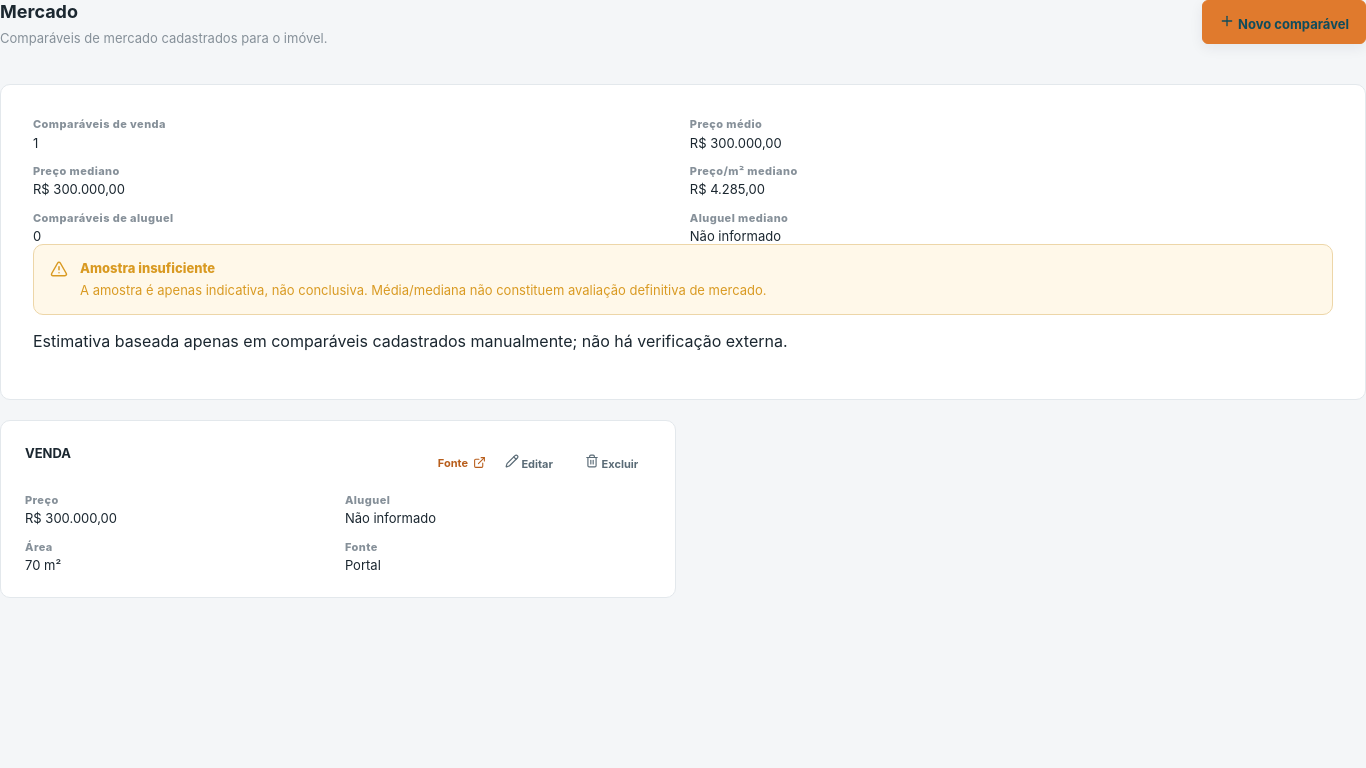
MarketSection › edita um comparável (recalcula mercado)
Expected: the text "VENDA" is shown, [25,445,71,461]
Click the button "Editar": (529,463) [492,445,566,481]
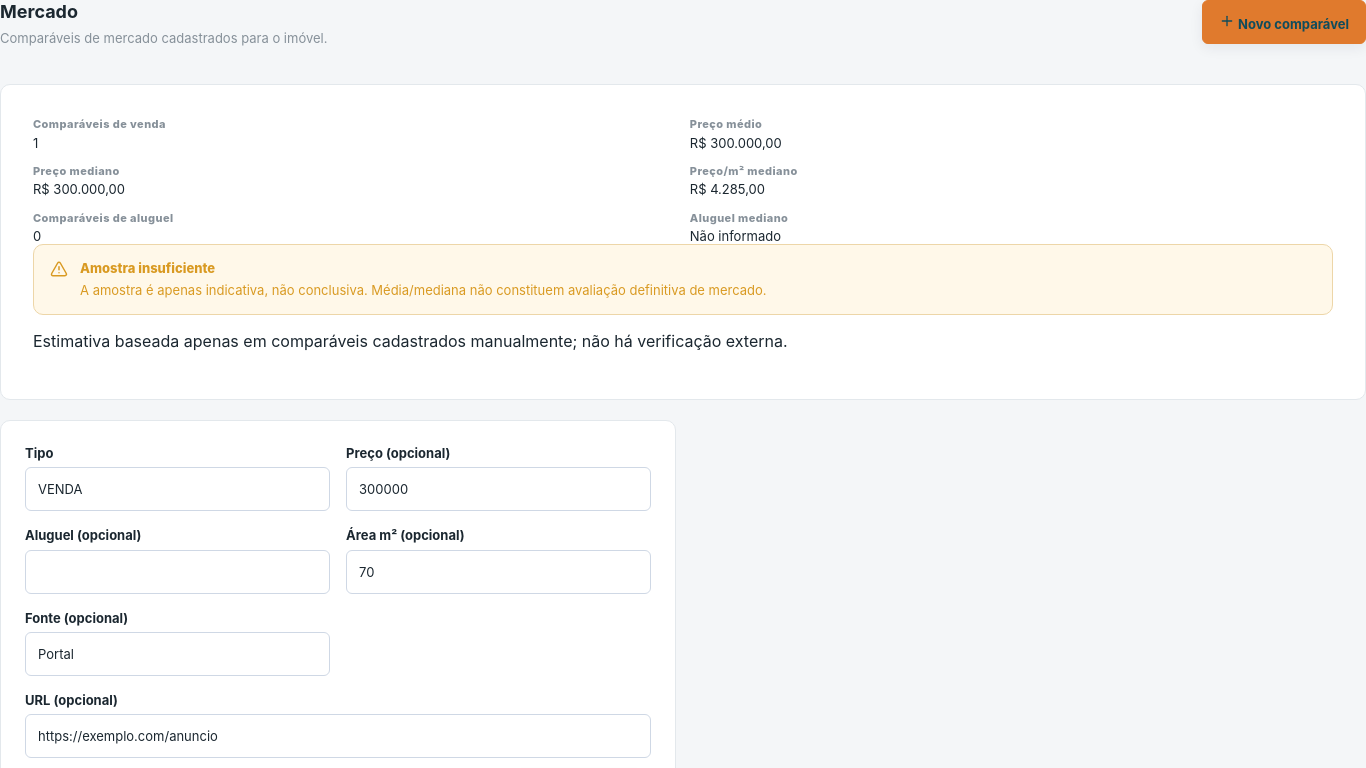
Replace the text in the number field labelled "Preço (opcional)" with "350000": (499,489) [346,467,651,511]
(page scrolled)
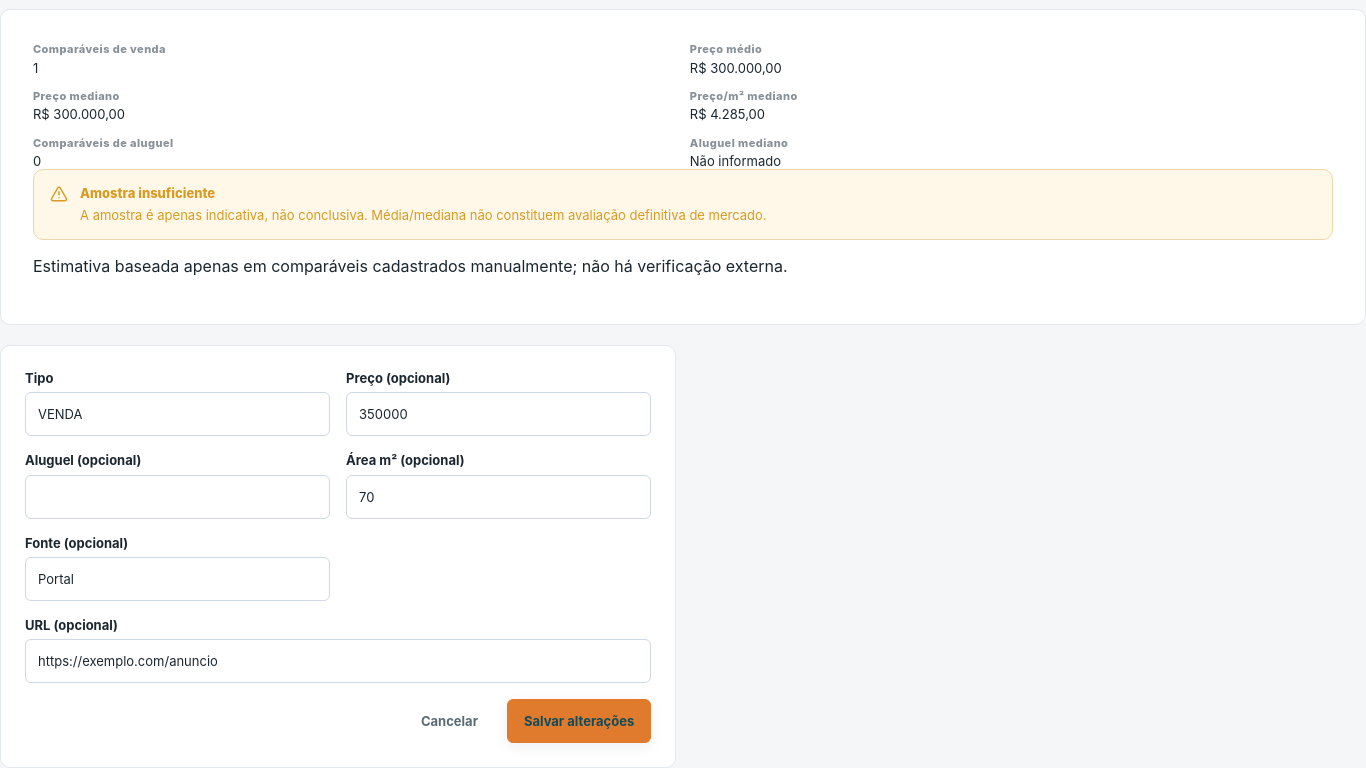
Click the button "Salvar alterações": (579,721) [507,699,651,743]
(page scrolled)
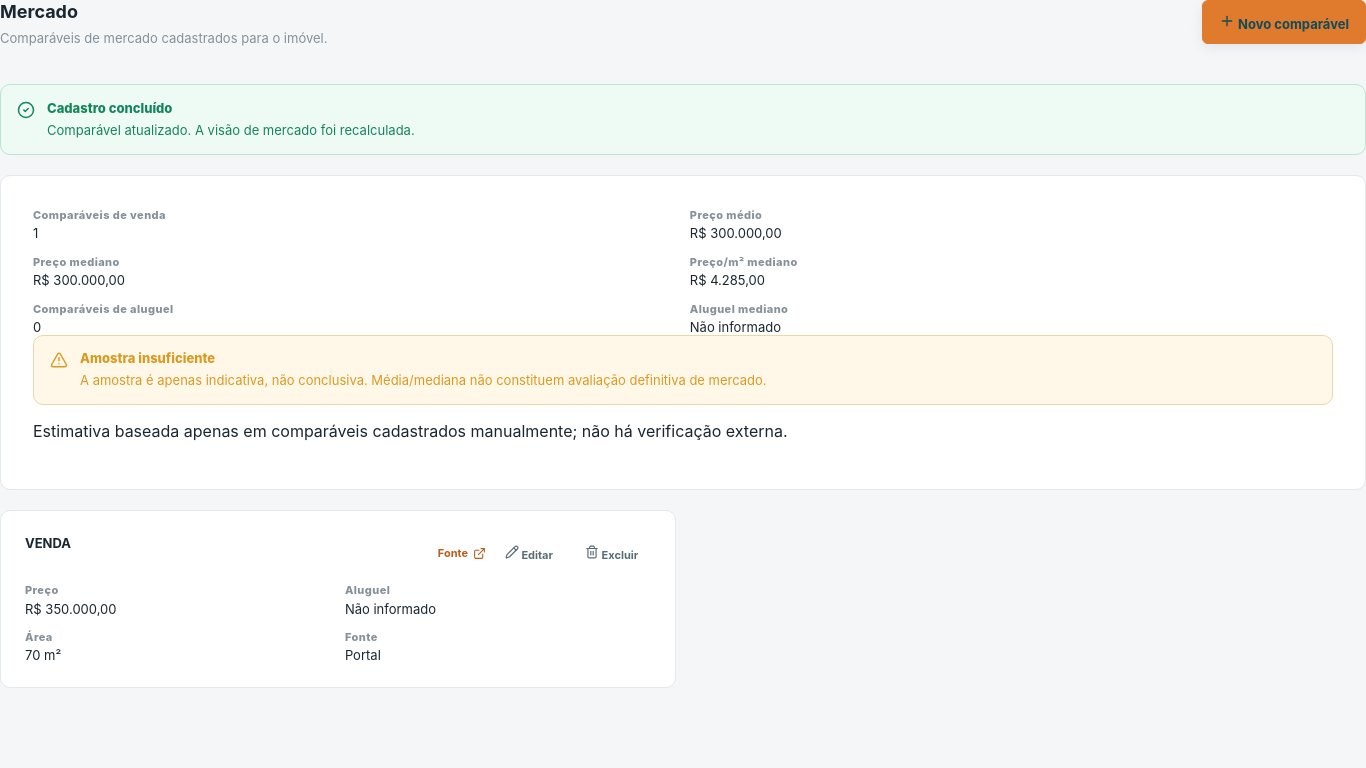
Expected: the text "Comparável atualizado. A visão de mercado foi recalculada." is shown, [47,122,415,138]
